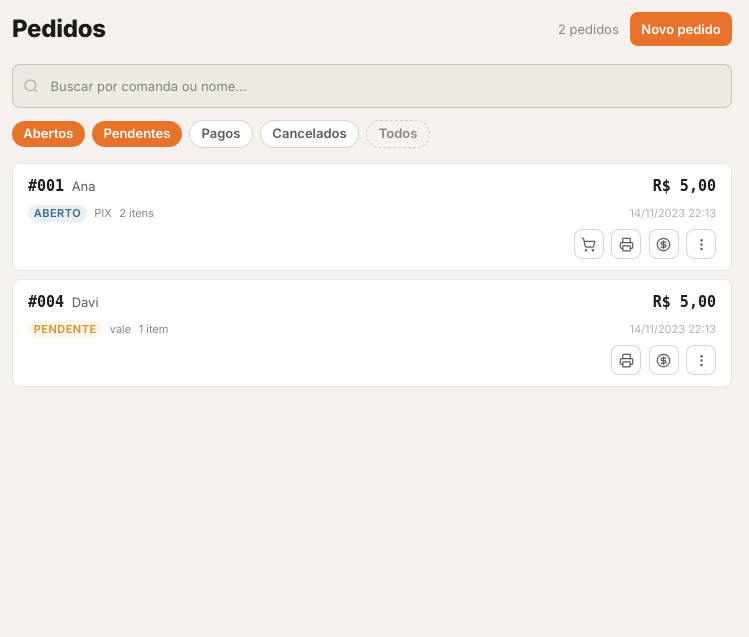
Test case: OrdersPage › lists orders with status badges, payment labels and item counts
Expected: the text "#001" is shown, [28,175,64,197]
Click the button "Todos" at (398, 134), box [366,120,430,148]
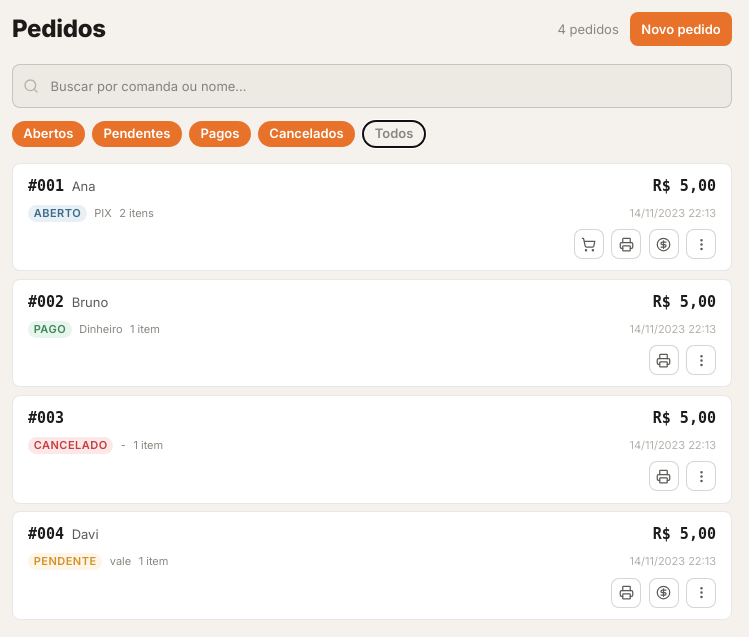
Now the text "#002" is shown, box [28,291,64,314]
Now the text "4 pedidos" is shown, box [558,20,619,38]
Now the text "Pago" is shown, box [28,321,72,338]
